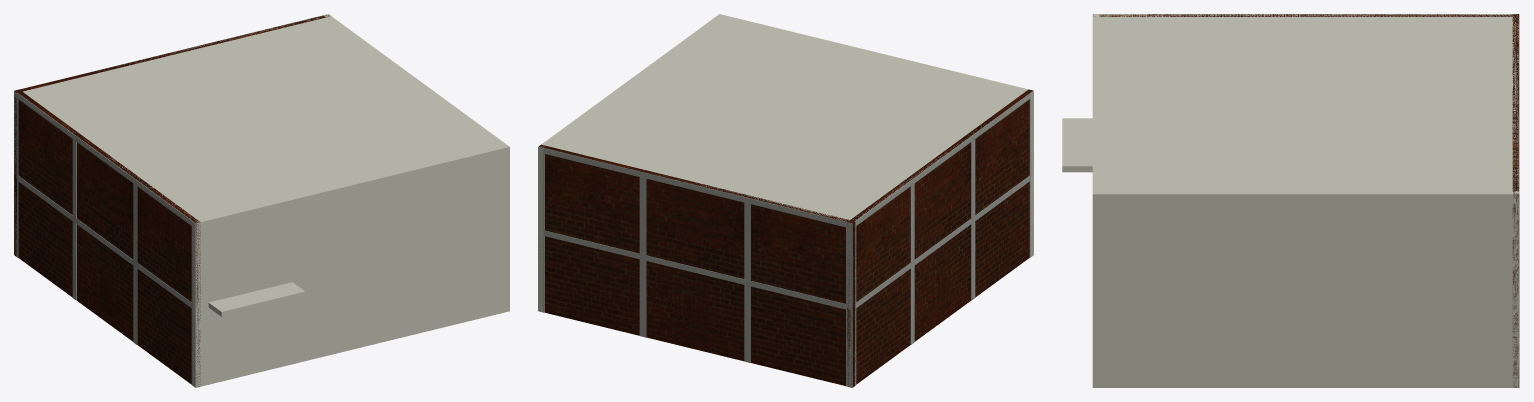
The model's file is building.glb.
3 views of the same model, side by side, from view 1: azimuth 30°, elevation 25°; view 2: azimuth 150°, elevation 25°; view 3: azimuth 270°, elevation 25° (orthographic). The views are drawn at different scales.
Parts seen in each view (by area): view 1: roof/house:0/roof_slab#0001, house:0/edge0/z0/house:0/edge0/z0/wall_0_0, house:0/edge3/z0/house:0/edge3/z0/wall_0_0, balcony/sample/balcony_platform#0001, house:0/edge2/z0/house:0/edge2/z0/wall_0_0, house:0/edge1/z0/house:0/edge1/z0/wall_0_0, house:0/edge3/z0/house:0/edge3/z0/beam_0_0, house:0/edge3/z0/house:0/edge3/z0/beam_1_0; view 2: roof/house:0/roof_slab#0001, house:0/edge2/z0/house:0/edge2/z0/wall_0_0, house:0/edge3/z0/house:0/edge3/z0/wall_0_0, house:0/edge1/z0/house:0/edge1/z0/wall_0_0, house:0/edge2/z0/house:0/edge2/z0/beam_1_0, house:0/edge2/z0/house:0/edge2/z0/beam_0_0, house:0/edge0/z0/house:0/edge0/z0/wall_0_0, house:0/edge3/z0/house:0/edge3/z0/beam_0_0, house:0/edge3/z0/house:0/edge3/z0/beam_1_0, house:0/edge2/z0/house:0/edge2/z0/column_2_1, house:0/edge2/z0/house:0/edge2/z0/column_2_0, house:0/edge2/z0/house:0/edge2/z0/column_1_1 (+3 smaller); view 3: house:0/edge1/z0/house:0/edge1/z0/wall_0_0, roof/house:0/roof_slab#0001, house:0/edge0/z0/house:0/edge0/z0/wall_0_0, house:0/edge2/z0/house:0/edge2/z0/wall_0_0, balcony/sample/balcony_platform#0001, house:0/edge3/z0/house:0/edge3/z0/wall_0_0.
Boxes of the visible parts, <box> form: roof/house:0/roof_slab#0001: <box>14,15,507,226</box>; house:0/edge0/z0/house:0/edge0/z0/wall_0_0: <box>192,144,509,387</box>; house:0/edge3/z0/house:0/edge3/z0/wall_0_0: <box>15,89,200,386</box>; balcony/sample/balcony_platform#0001: <box>208,282,305,316</box>; house:0/edge2/z0/house:0/edge2/z0/wall_0_0: <box>14,15,330,256</box>; house:0/edge1/z0/house:0/edge1/z0/wall_0_0: <box>323,14,509,312</box>; house:0/edge3/z0/house:0/edge3/z0/beam_0_0: <box>14,173,195,308</box>; house:0/edge3/z0/house:0/edge3/z0/beam_1_0: <box>14,91,195,227</box>; roof/house:0/roof_slab#0001: <box>541,16,1033,223</box>; house:0/edge2/z0/house:0/edge2/z0/wall_0_0: <box>539,144,855,387</box>; house:0/edge3/z0/house:0/edge3/z0/wall_0_0: <box>847,89,1032,386</box>; house:0/edge1/z0/house:0/edge1/z0/wall_0_0: <box>538,14,723,312</box>; house:0/edge2/z0/house:0/edge2/z0/beam_1_0: <box>538,147,852,228</box>; house:0/edge2/z0/house:0/edge2/z0/beam_0_0: <box>543,230,852,311</box>; house:0/edge0/z0/house:0/edge0/z0/wall_0_0: <box>717,14,1033,256</box>; house:0/edge3/z0/house:0/edge3/z0/beam_0_0: <box>855,175,1033,308</box>; house:0/edge3/z0/house:0/edge3/z0/beam_1_0: <box>854,91,1033,226</box>; house:0/edge2/z0/house:0/edge2/z0/column_2_1: <box>639,259,646,337</box>; house:0/edge2/z0/house:0/edge2/z0/column_2_0: <box>639,177,646,255</box>; house:0/edge2/z0/house:0/edge2/z0/column_1_1: <box>846,227,852,305</box>; house:0/edge1/z0/house:0/edge1/z0/wall_0_0: <box>1092,191,1519,387</box>; roof/house:0/roof_slab#0001: <box>1092,14,1519,198</box>; house:0/edge0/z0/house:0/edge0/z0/wall_0_0: <box>1092,14,1099,387</box>; house:0/edge2/z0/house:0/edge2/z0/wall_0_0: <box>1512,14,1518,387</box>; balcony/sample/balcony_platform#0001: <box>1062,118,1092,172</box>; house:0/edge3/z0/house:0/edge3/z0/wall_0_0: <box>1093,14,1512,16</box>.
Bounding box in the file's own units: 12 × 6 × 12.85.
3 materials, 1 textured.
